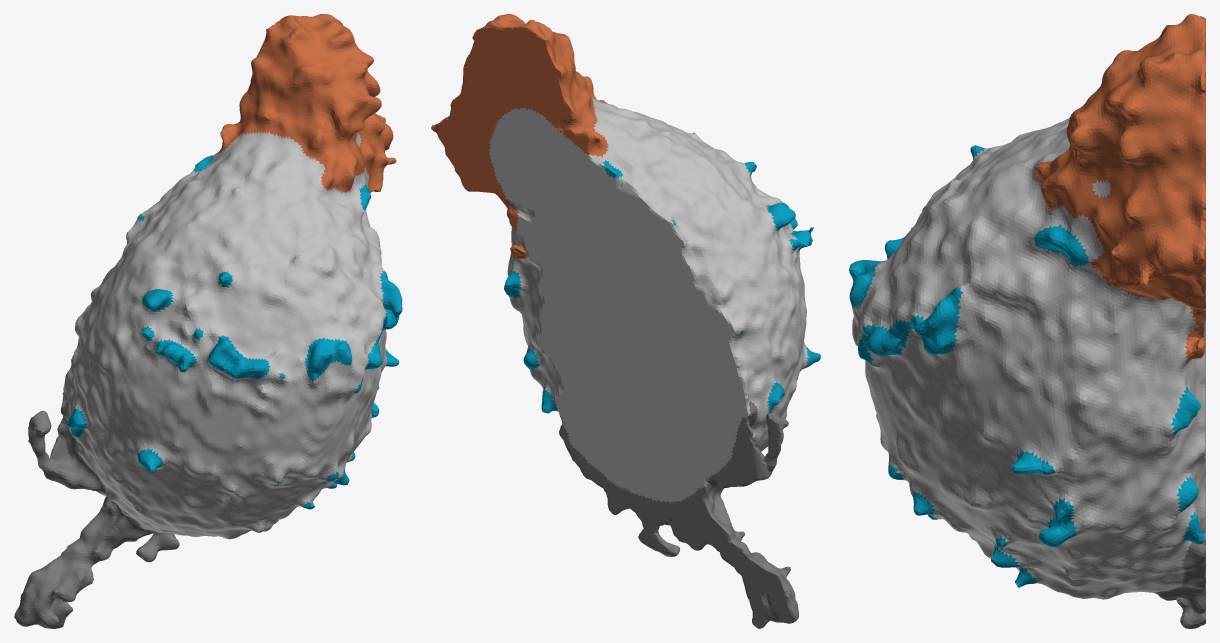
The picture shows the model from 3 angles, left to right: view 1: azimuth 30°, elevation 25°; view 2: azimuth 150°, elevation 25°; view 3: azimuth 270°, elevation 25°; orthographic projection. The views are drawn at different scales.
Bounding box in the file's own units: 118 × 170 × 71.6.
